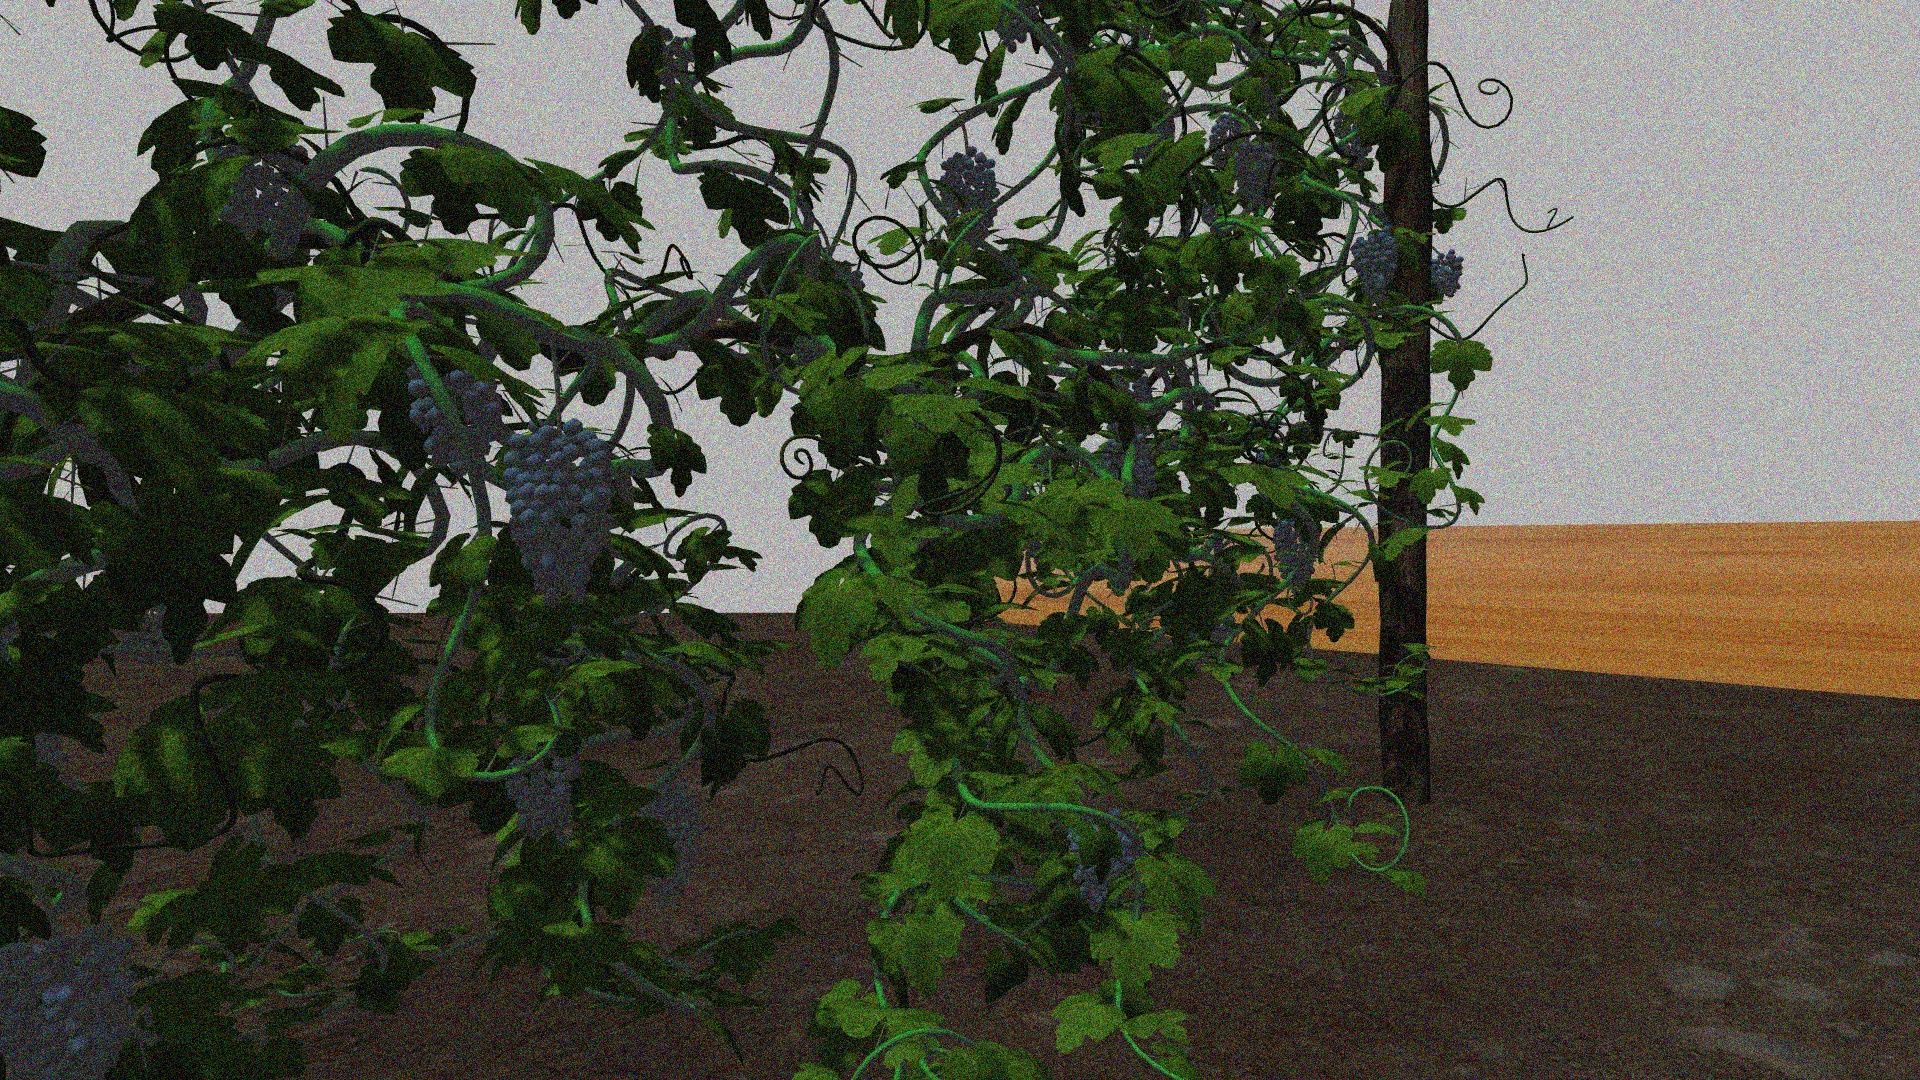grape: (4, 923, 149, 1076), (502, 419, 615, 608), (405, 357, 502, 479), (628, 782, 707, 907), (504, 746, 584, 847), (1067, 810, 1134, 915), (939, 146, 1000, 244), (1352, 227, 1400, 302), (1273, 516, 1321, 591), (1233, 141, 1279, 212), (1208, 115, 1247, 171), (1431, 249, 1465, 298)
